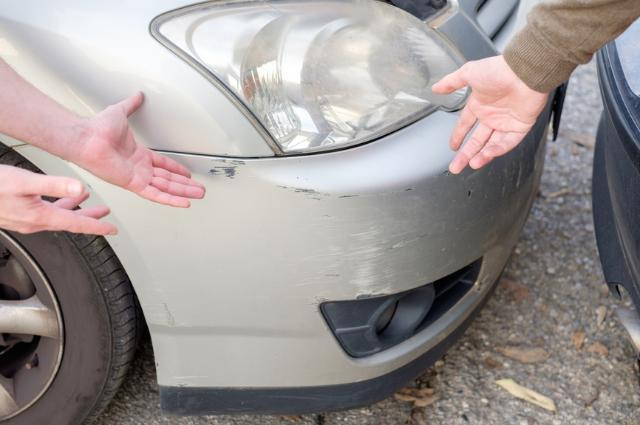Bumper: (195, 155, 467, 356)
